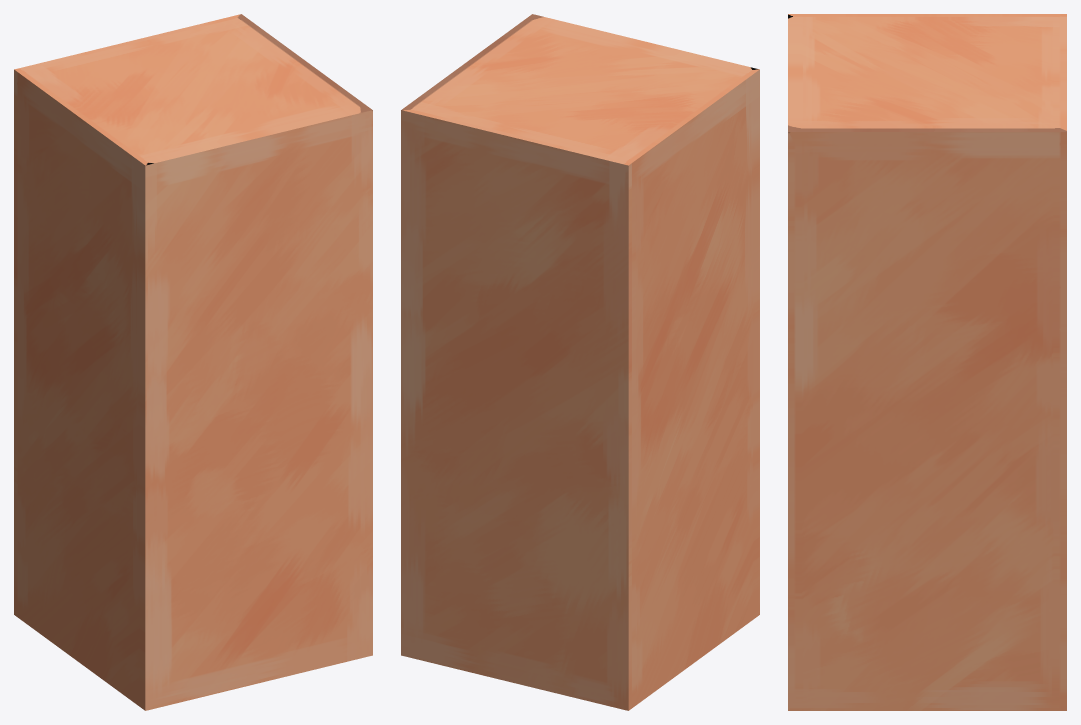
File: parapet_corner.bundle.fbx
3 views of the same model, side by side, from view 1: azimuth 30°, elevation 25°; view 2: azimuth 150°, elevation 25°; view 3: azimuth 270°, elevation 25° (orthographic). The views are drawn at different scales.
Visible parts, largest first — view 1: parapet_corner_low, parapet_corner, parapet_corner_s01, parapet_corner_s00; view 2: parapet_corner_low, parapet_corner, parapet_corner_s01, parapet_corner_s00; view 3: parapet_corner, parapet_corner_low, parapet_corner_s01, parapet_corner_s00.
Boxes of the visible parts, x1,y1,x2,y2 form: parapet_corner_low: (14,14,372,710); parapet_corner: (20,21,361,696); parapet_corner_s01: (20,263,361,696); parapet_corner_s00: (20,101,361,400); parapet_corner_low: (401,14,759,710); parapet_corner: (412,21,753,696); parapet_corner_s01: (420,269,753,695); parapet_corner_s00: (412,126,753,346); parapet_corner: (801,19,1053,669); parapet_corner_low: (788,14,1066,710); parapet_corner_s01: (801,289,1053,672); parapet_corner_s00: (801,144,1053,341).
Bounding box in the file's own units: 1.44 × 3.3 × 1.44.
Materials: 1 (1 with a texture image).
